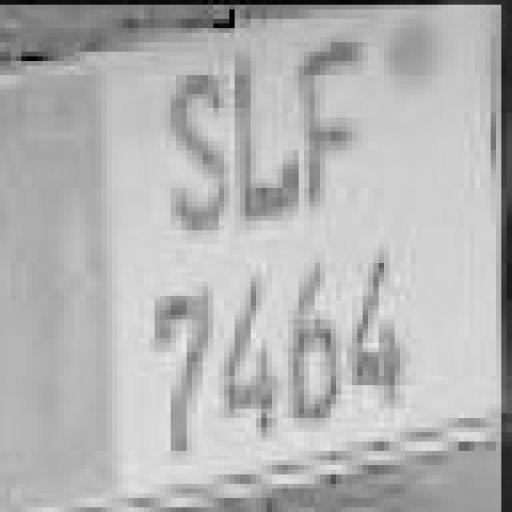4: (344, 265, 416, 430), (218, 276, 279, 446)
6: (293, 260, 337, 427)
7: (142, 288, 210, 450)
F: (291, 36, 379, 228)
L: (224, 58, 300, 222)
S: (148, 68, 222, 226)
